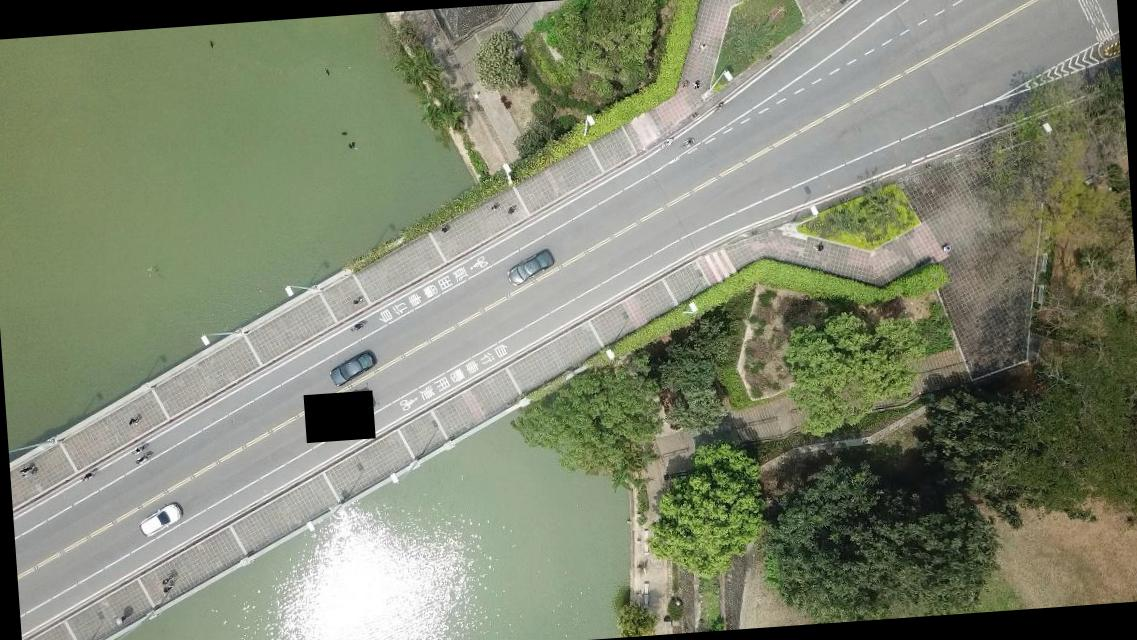vehicle: (504, 248, 555, 287), (328, 350, 377, 388), (138, 502, 184, 538)
